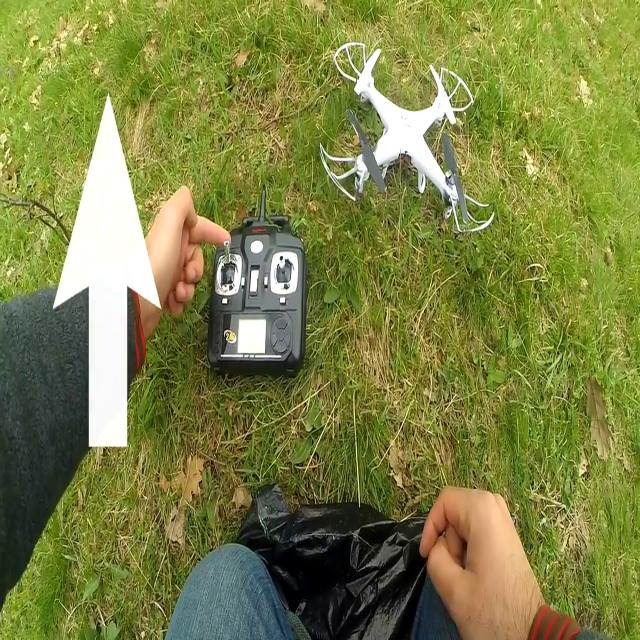drones: (323, 37, 498, 246)
